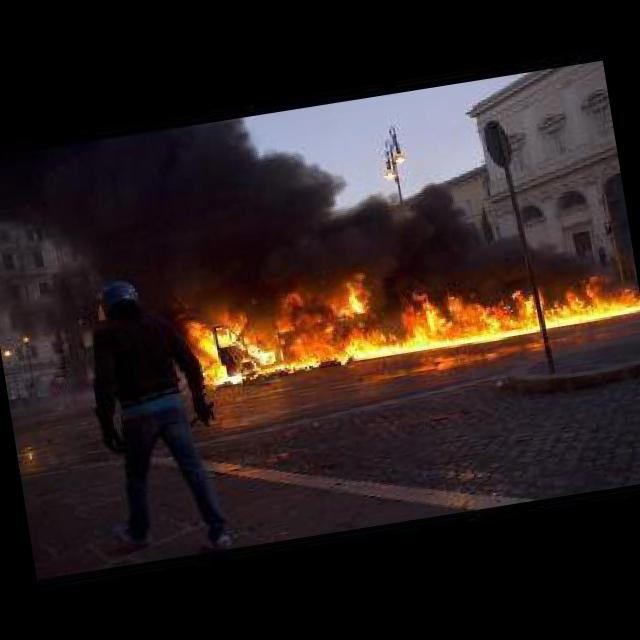Fire: (166, 219, 640, 387)
Smoke: (0, 67, 592, 366)
